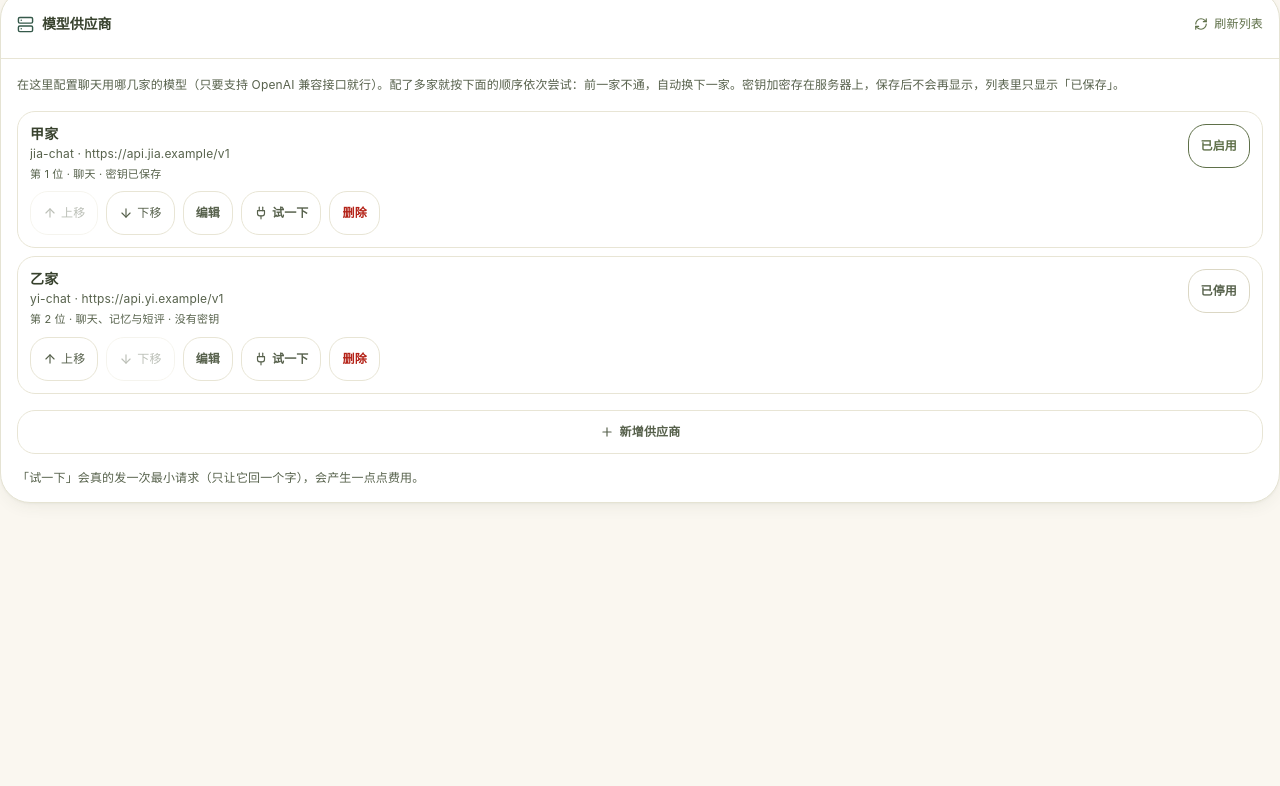
Test case: ModelProviderSettings › 新增：密钥只写不显示，保存后表单收起、列表刷新
Expected: the text "甲家" is shown, [30,124,58,142]
Click the button "新增供应商" at point(640, 432), box [17,410,1263,454]
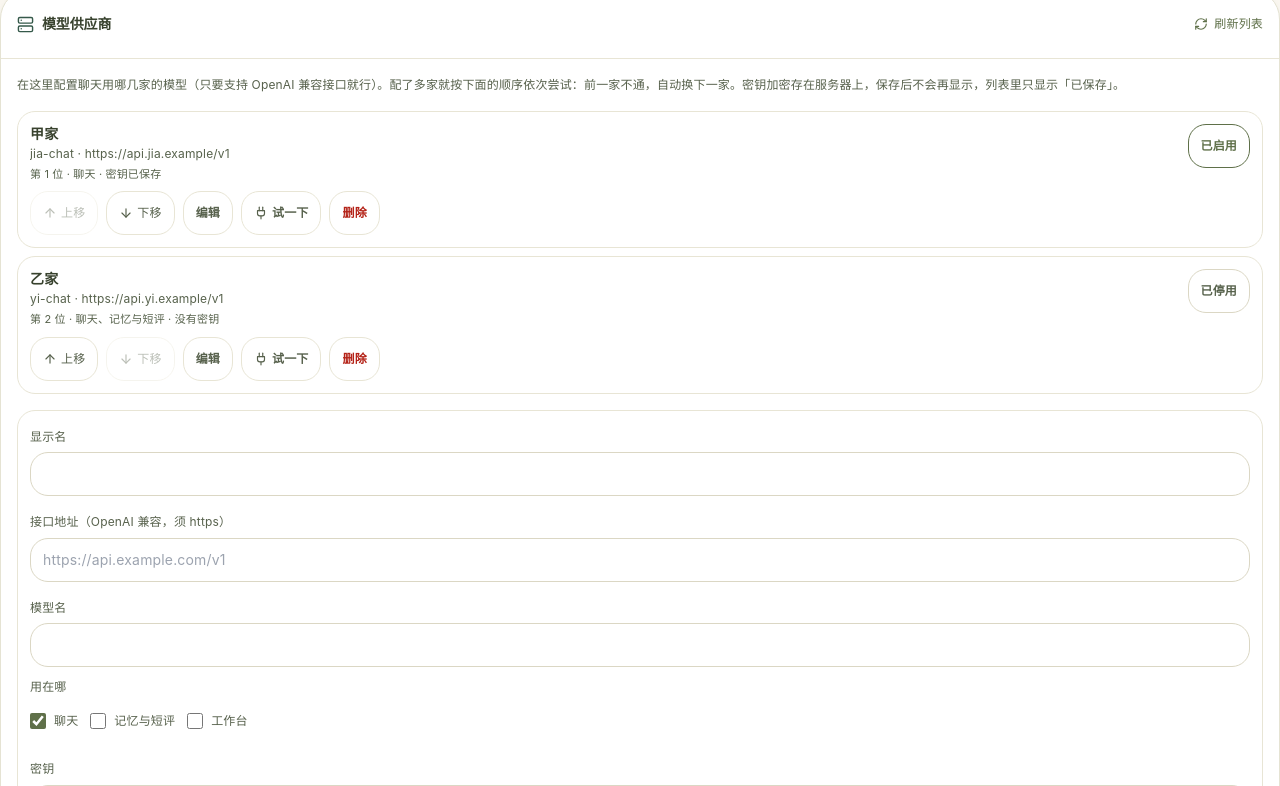
Type "丙家" into the field labelled "显示名" at point(640, 474), box [30,452,1250,496]
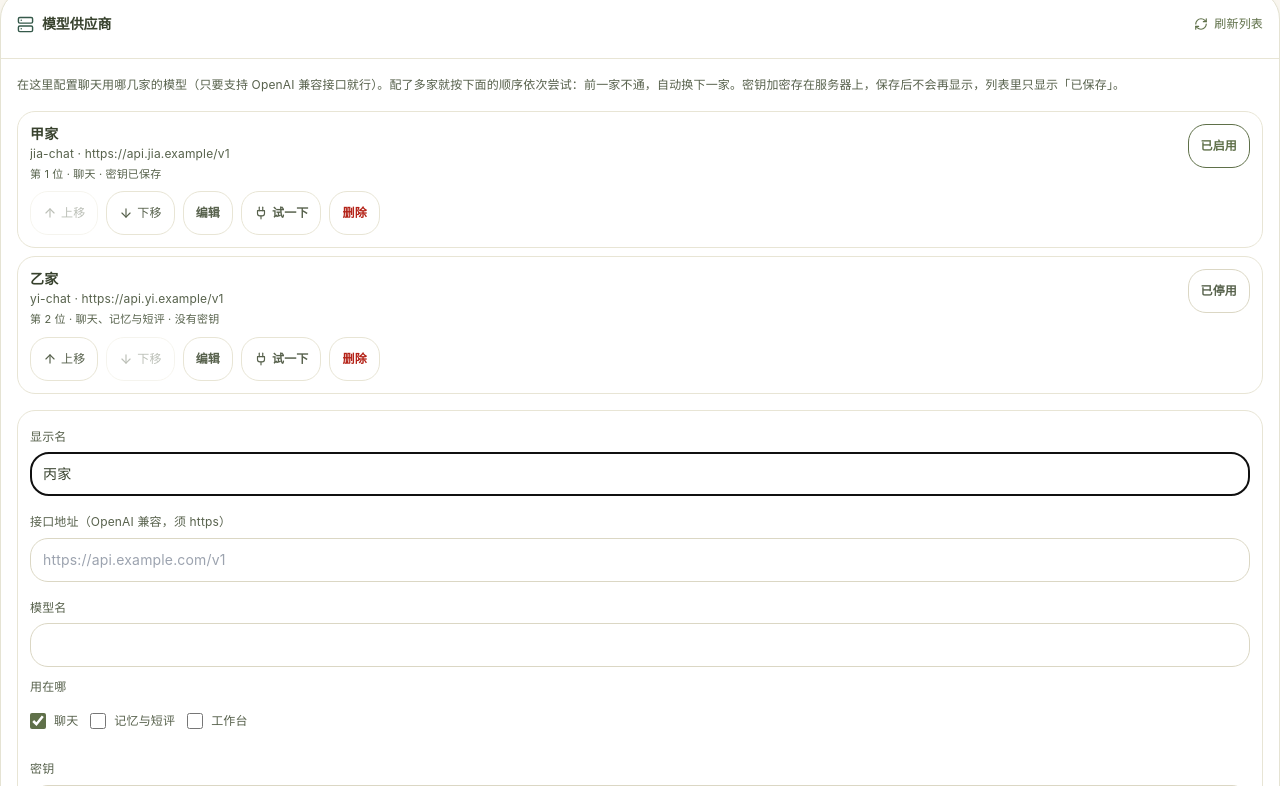
Type "https://api.bing.example/v1" into the field labelled "接口地址（OpenAI 兼容，须 https）" at point(640, 560), box [30,538,1250,582]
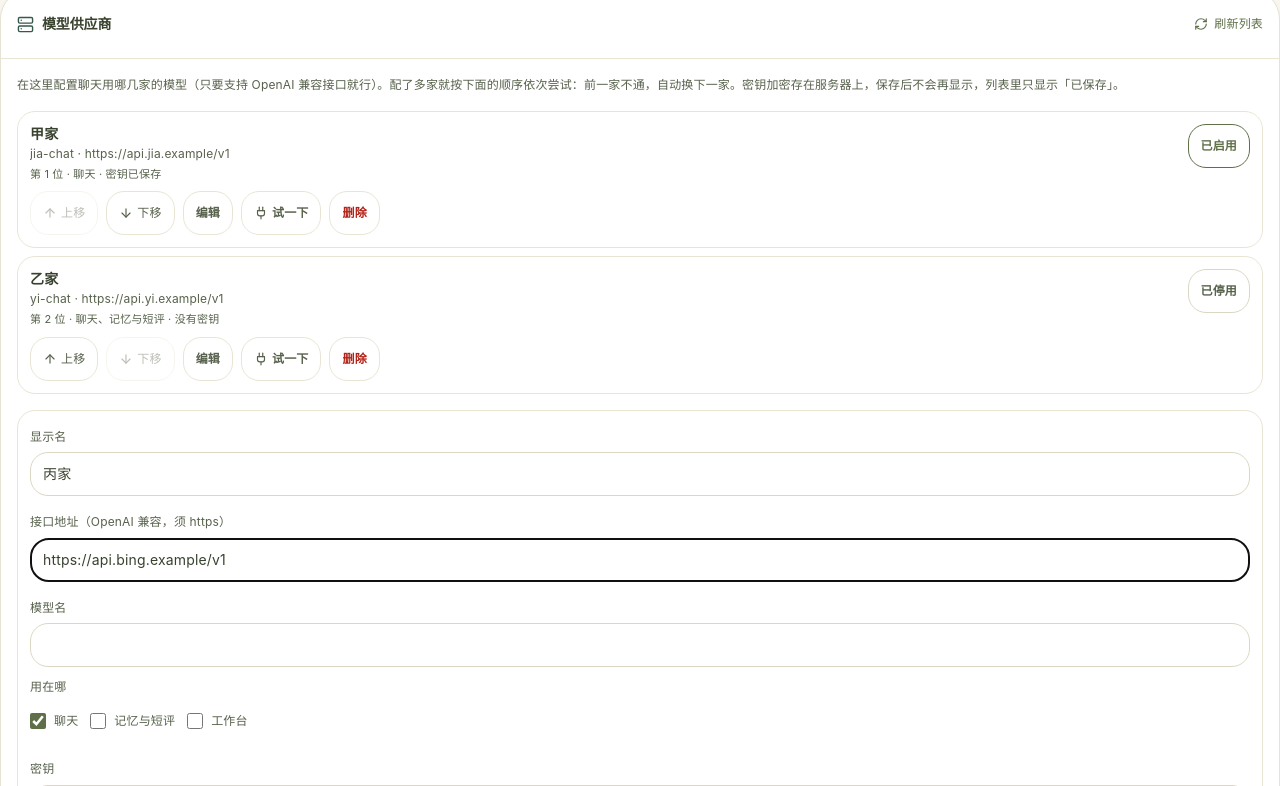
Type "bing-chat" into the field labelled "模型名" at point(640, 646), box [30,624,1250,668]
(page scrolled)
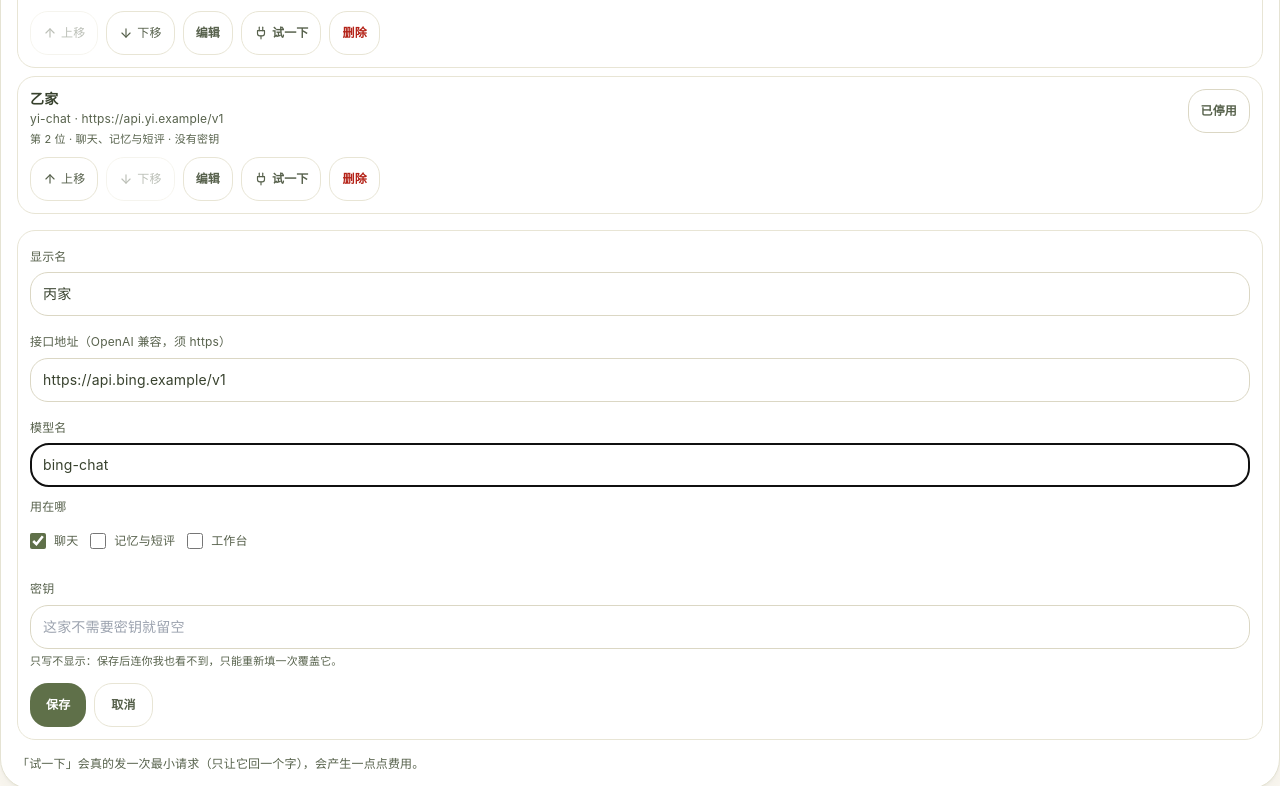
Type "sk-brand-new-value" into the password field labelled "密钥" at point(640, 627), box [30,605,1250,649]
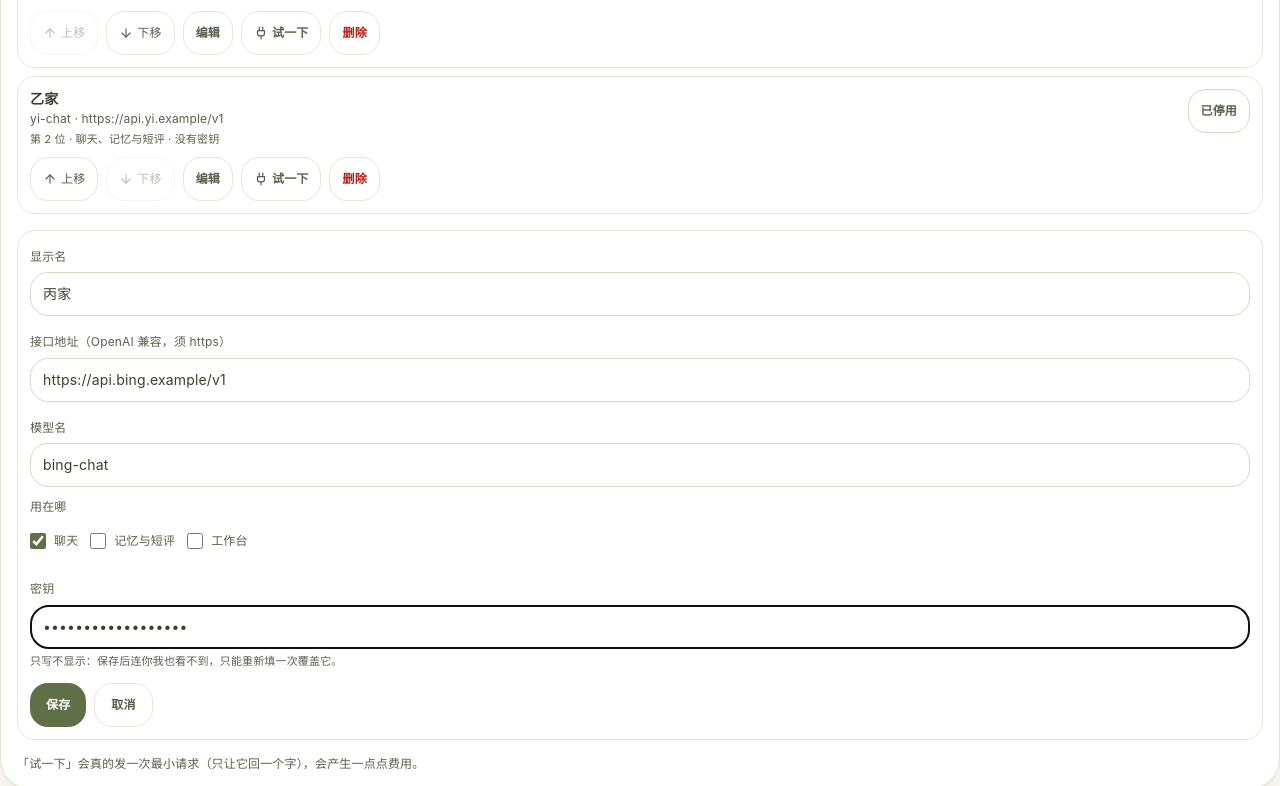
Click the button "保存" at point(58, 705), box [30,683,86,727]
(page scrolled)
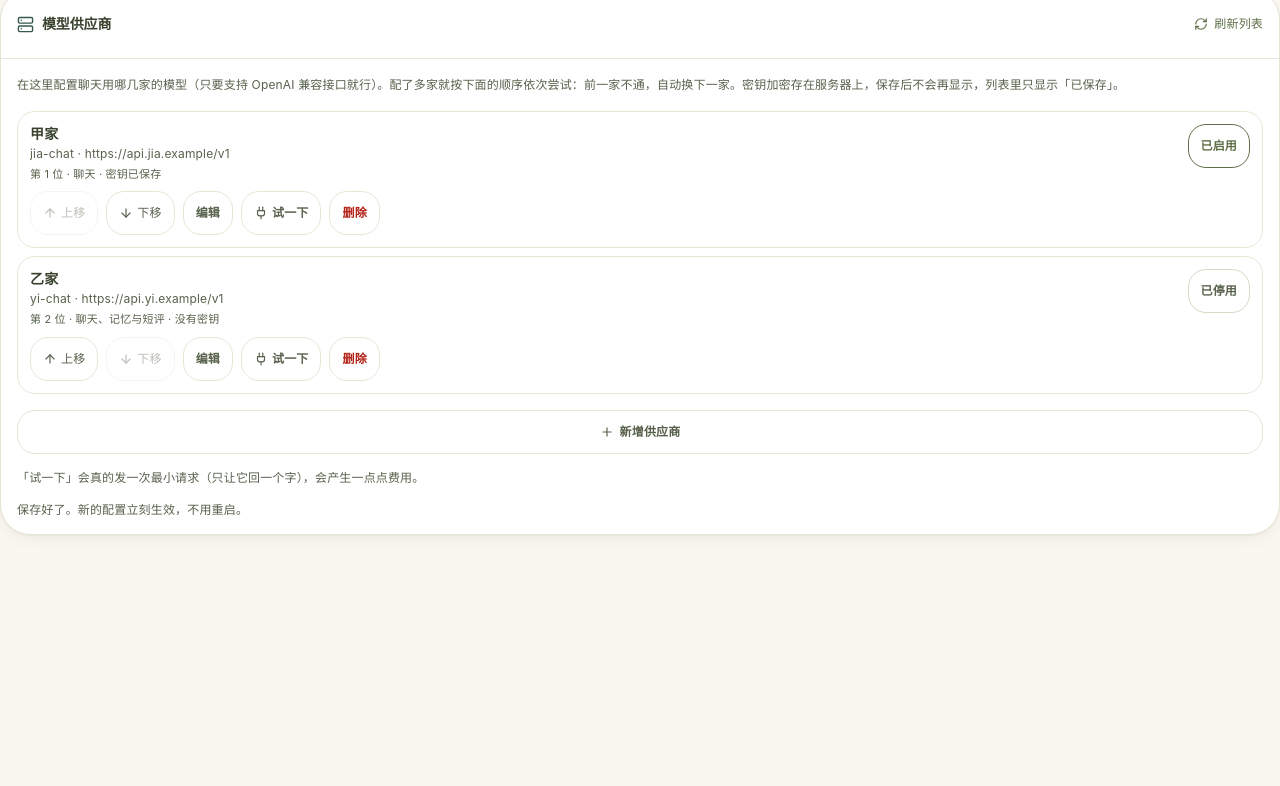
Expected: the form is gone
Expected: the message shows "保存好了", [17,502,248,517]
